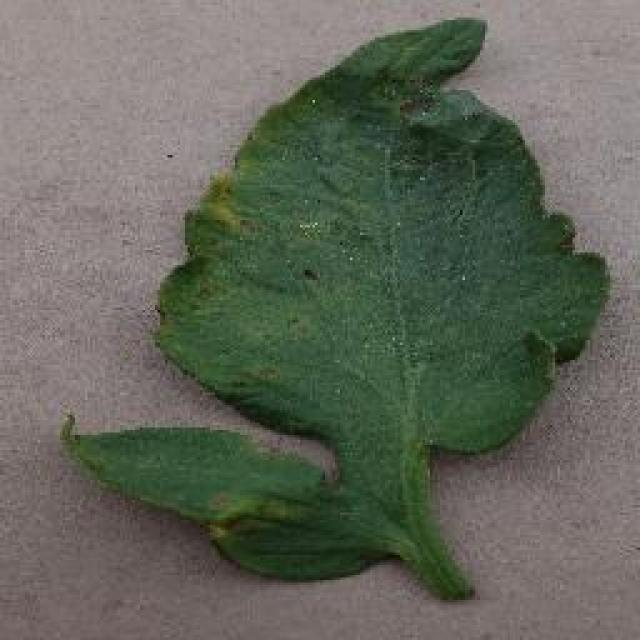Tomato bacterial spot leaf: (66, 20, 606, 608)
